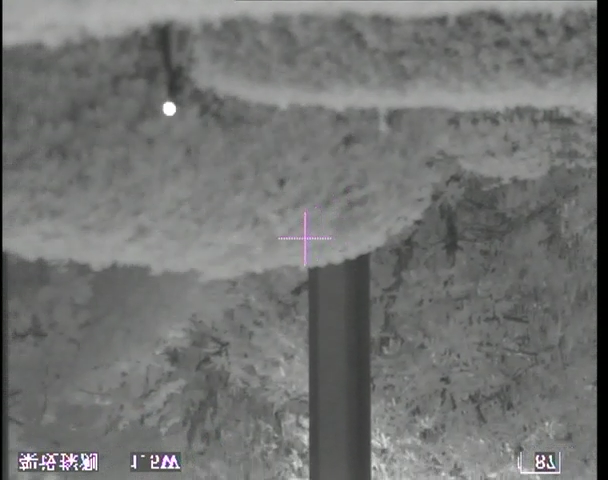my: (162, 100, 177, 117)
